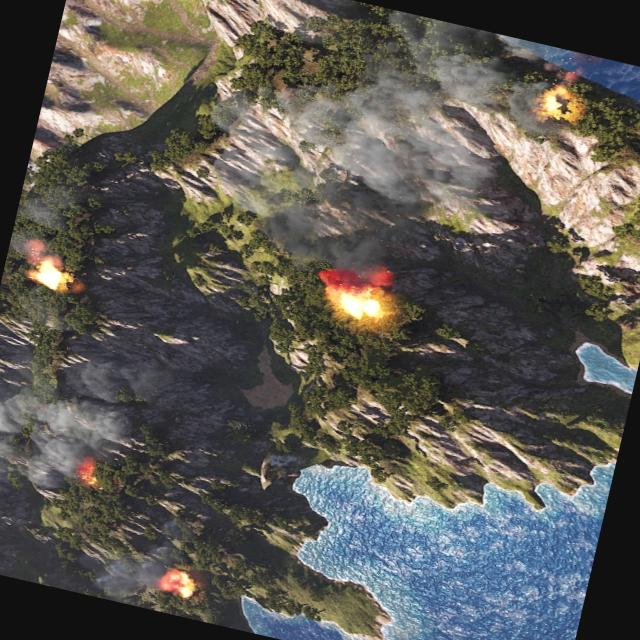fire: (534, 77, 580, 121), (328, 286, 382, 322), (28, 254, 68, 291), (74, 455, 103, 487), (178, 580, 194, 597), (63, 280, 73, 292)
smoke: (200, 0, 574, 326), (0, 344, 145, 513), (88, 528, 187, 614), (6, 190, 92, 276)
